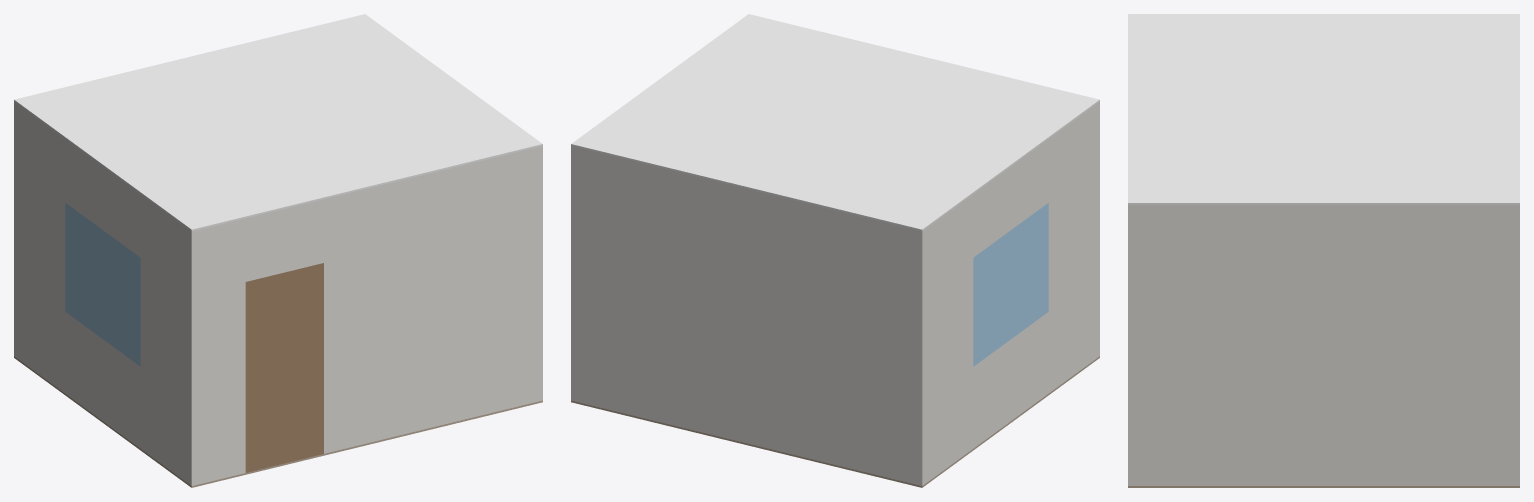
Rendered from sample_room.glb.
3 renders of one model, left to right at view 1: azimuth 30°, elevation 25°; view 2: azimuth 150°, elevation 25°; view 3: azimuth 270°, elevation 25°, orthographic. The views are drawn at different scales.
Parts seen in each view (by area): view 1: RoofSolar; view 2: RoofSolar; view 3: RoofSolar.
Part boxes in pixels (bbox=[...]): RoofSolar: bbox=[14, 14, 542, 487]; RoofSolar: bbox=[571, 14, 1099, 487]; RoofSolar: bbox=[1128, 14, 1519, 487].
Bounding box in the file's own units: 4.04 × 2.84 × 3.54.
